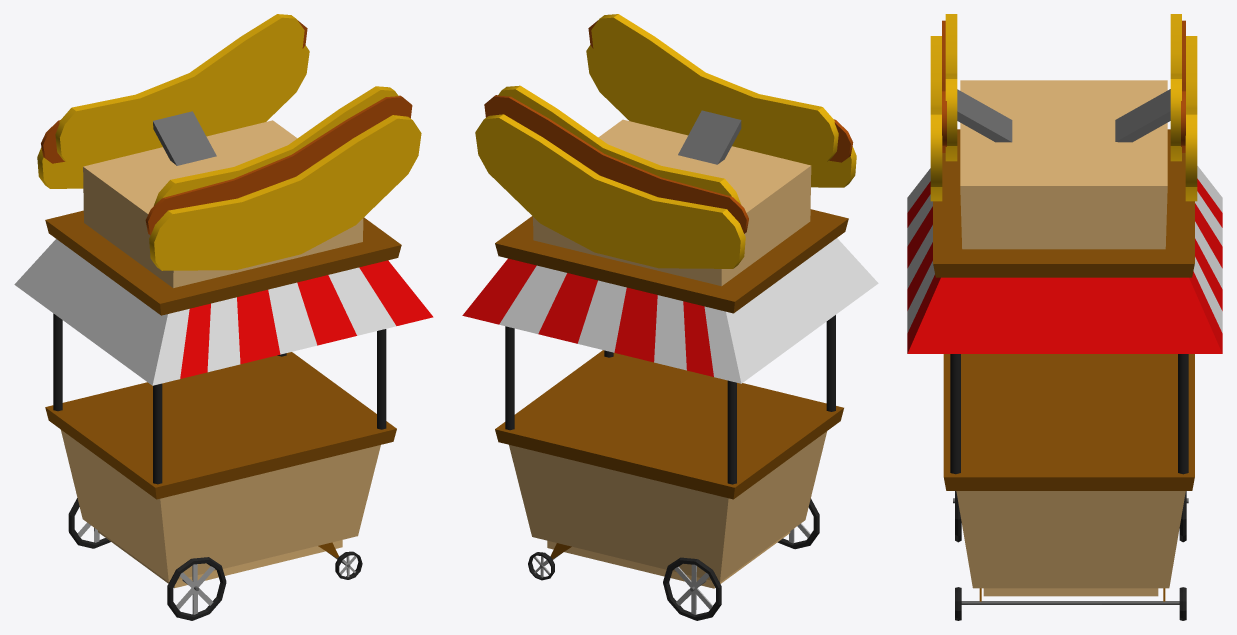
Rendered from Hot-dog stand.FBX.
The picture shows the model from 3 angles, left to right: view 1: azimuth 30°, elevation 25°; view 2: azimuth 150°, elevation 25°; view 3: azimuth 270°, elevation 25°; orthographic projection. The views are drawn at different scales.
Parts seen in each view (by area): view 1: Box003; view 2: Box003; view 3: Box003.
Part boxes in pixels (x1=…): Box003: x1=14, y1=14, x2=433, y2=620; Box003: x1=462, y1=14, x2=878, y2=620; Box003: x1=907, y1=14, x2=1222, y2=620.
Bounding box in the file's own units: 91.41 × 152 × 77.84.
